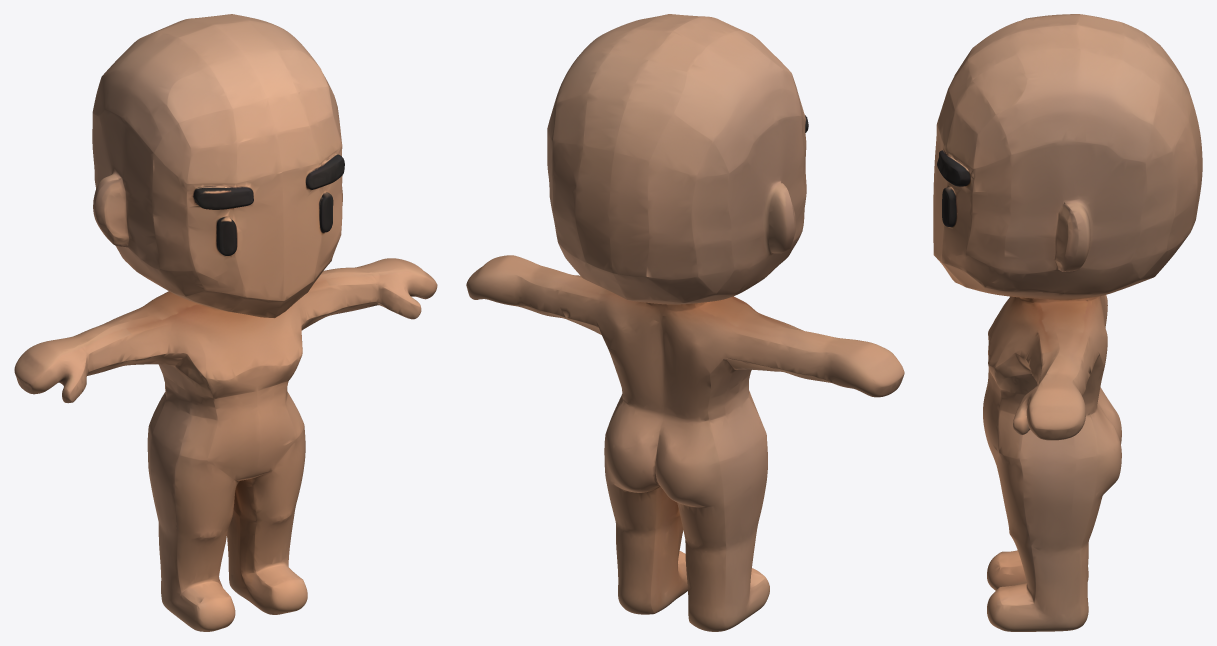
File: cuerpo-D-m.glb
3 views of the same model, side by side, from view 1: azimuth 30°, elevation 25°; view 2: azimuth 150°, elevation 25°; view 3: azimuth 270°, elevation 25° (orthographic). The views are drawn at different scales.
Visible parts, largest first — view 1: node_0; view 2: node_0; view 3: node_0.
Boxes of the visible parts, x1=… form: node_0: x1=14, y1=14, x2=437, y2=631; node_0: x1=466, y1=14, x2=904, y2=631; node_0: x1=933, y1=14, x2=1202, y2=631.
Bounding box in the file's own units: 0.8758 × 1.16 × 0.4866.
Materials: 1 (1 with a texture image).
